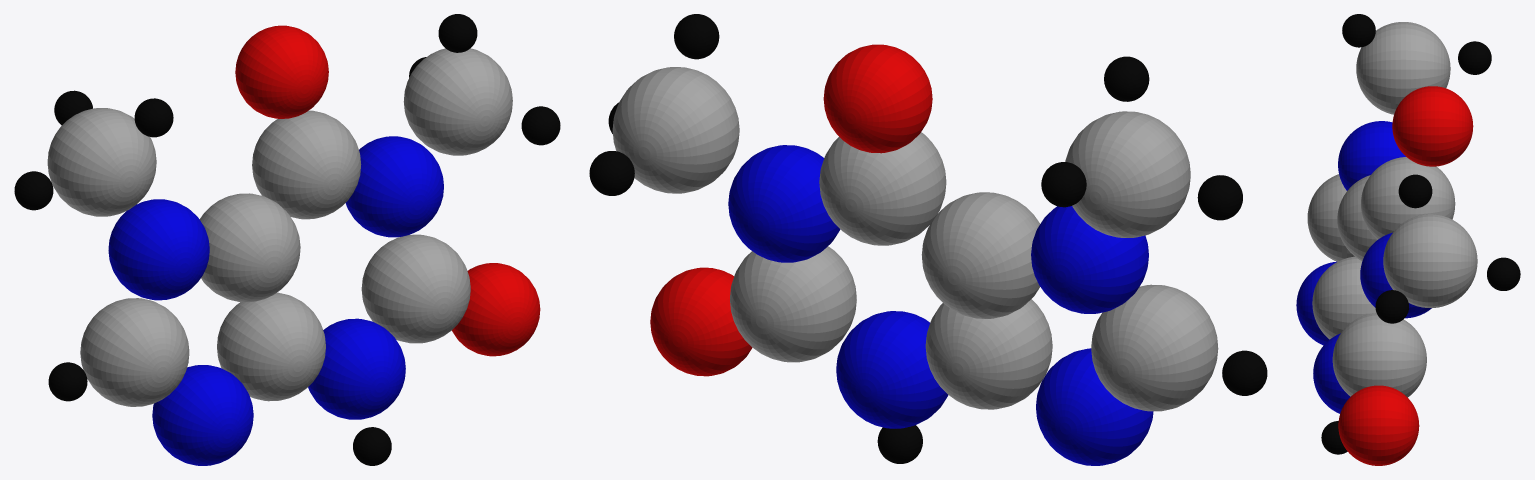
File: Theophylline.glb
The picture shows the model from 3 angles, left to right: view 1: azimuth 30°, elevation 25°; view 2: azimuth 150°, elevation 25°; view 3: azimuth 270°, elevation 25°; orthographic projection. The views are drawn at different scales.
Parts seen in each view (by area): view 1: world; view 2: world; view 3: world.
Part boxes in pixels (bbox=[...]): world: bbox=[14, 14, 560, 465]; world: bbox=[589, 14, 1267, 465]; world: bbox=[1296, 14, 1520, 465].
Size of the model in its own units: 8 by 5.74 by 3.33.
